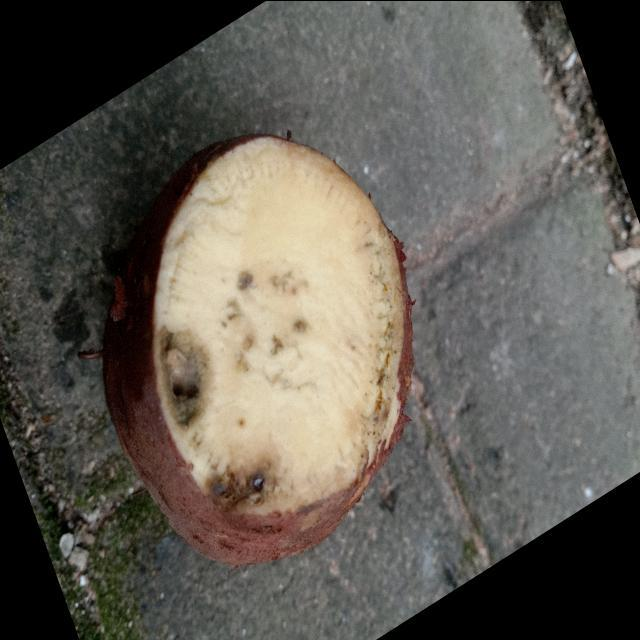Sick Sweet Potato_Tuber Rot: (155, 137, 405, 513)
